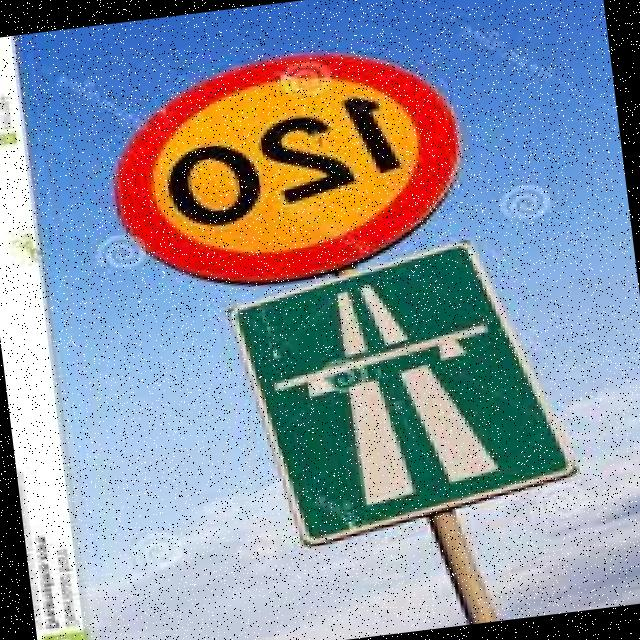speed_limit_120: (90, 27, 480, 300)
